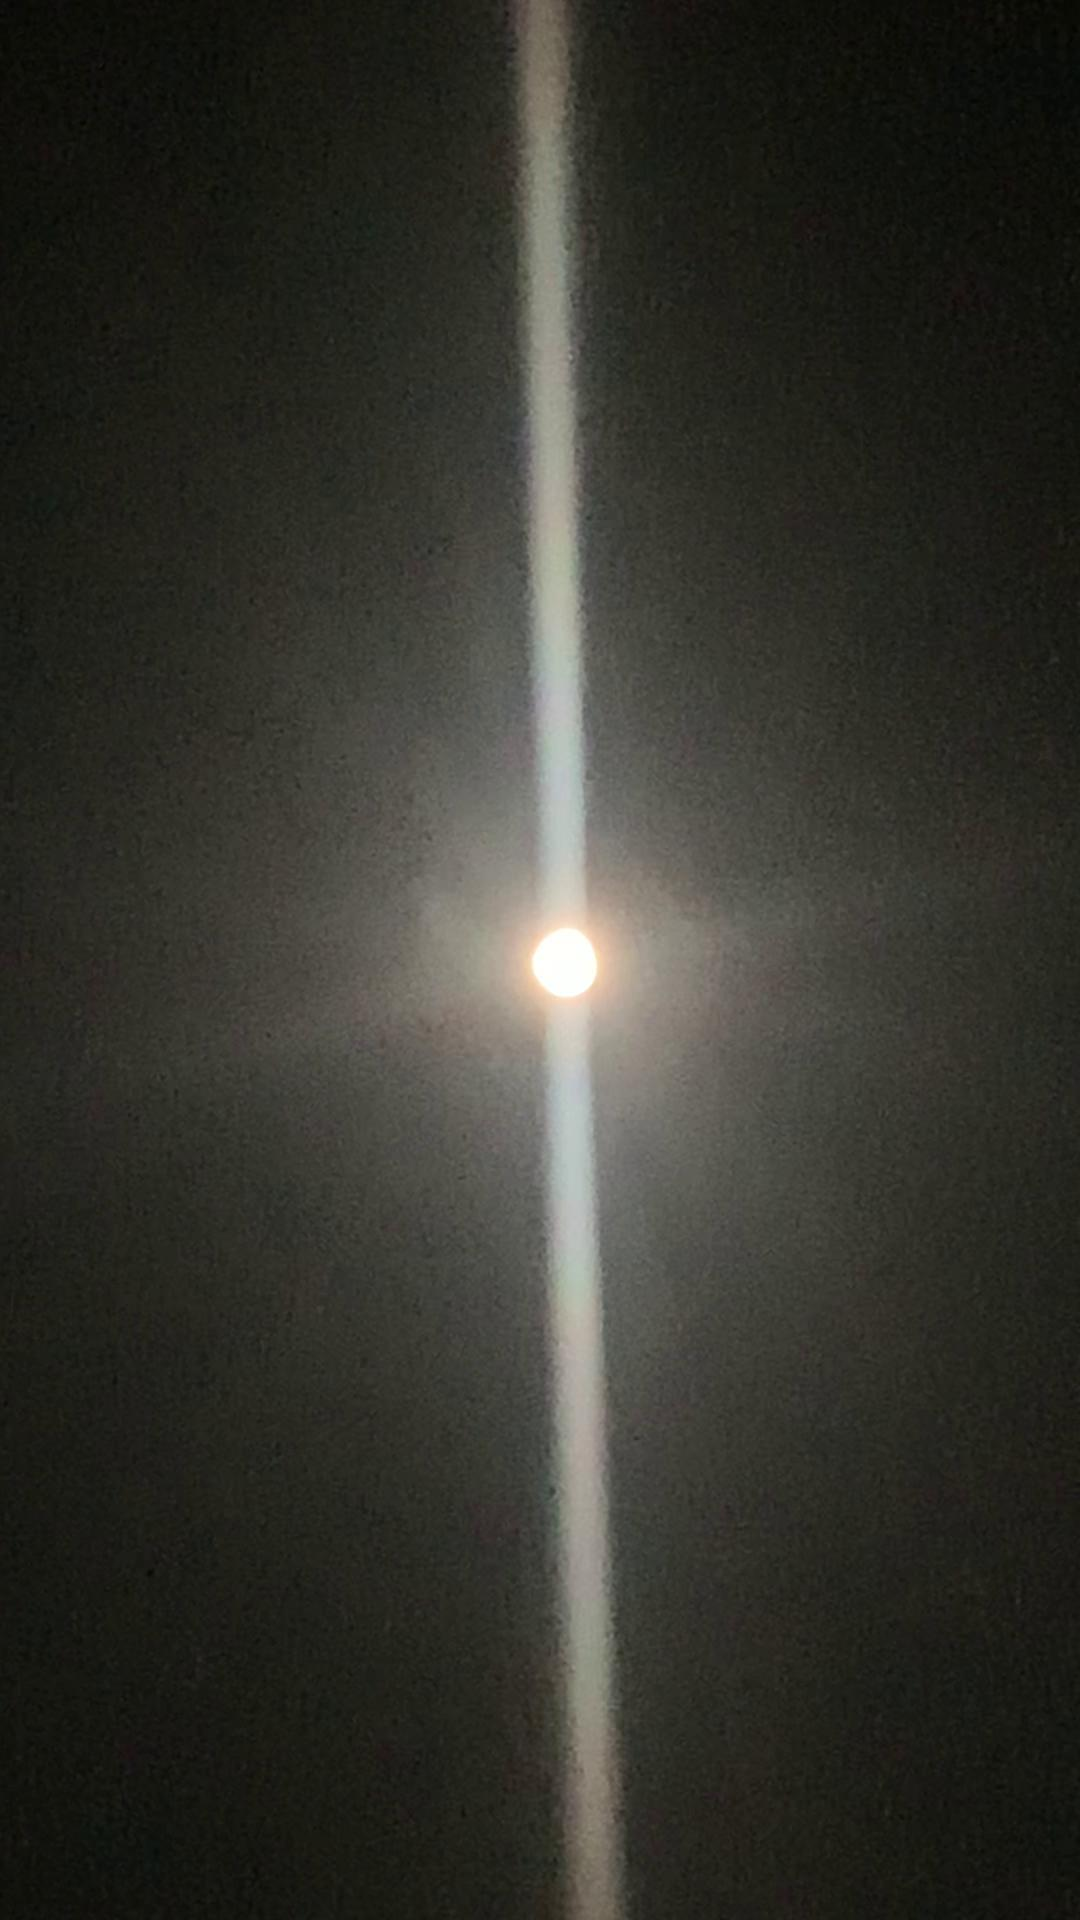moon: (506, 905, 628, 1018)
